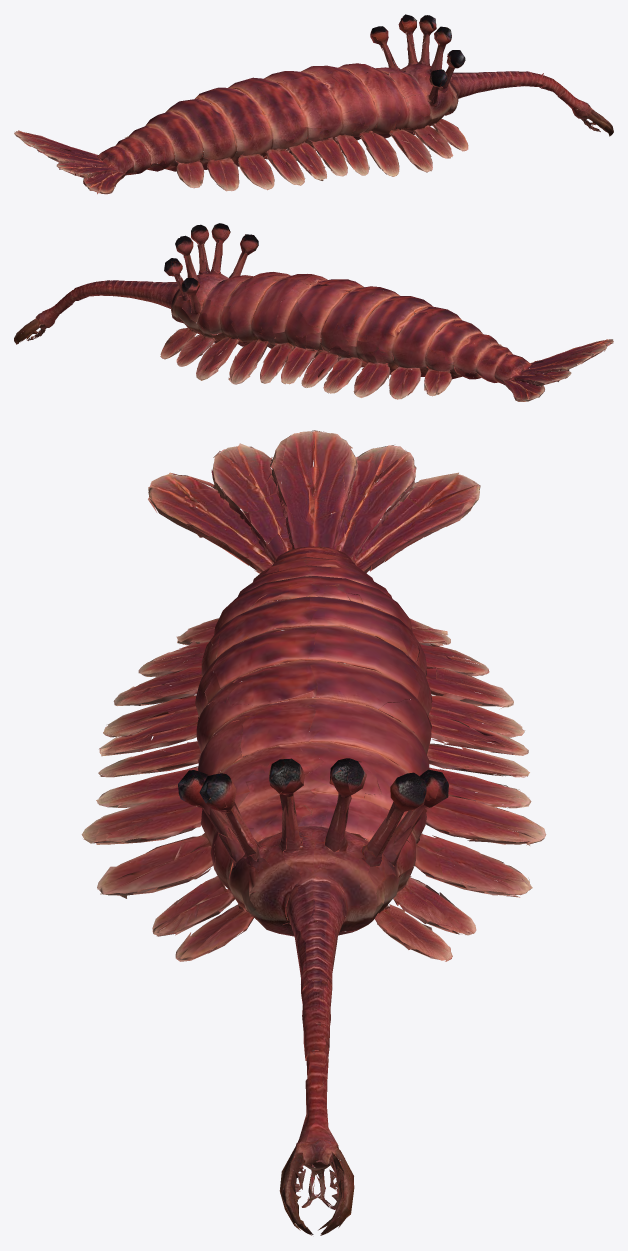
Rendered from opabinia.glb.
3 renders of one model, top to bottom at view 1: azimuth 30°, elevation 25°; view 2: azimuth 150°, elevation 25°; view 3: azimuth 270°, elevation 25°, orthographic. The views are drawn at different scales.
Parts seen in each view (by area): view 1: Mesh_0; view 2: Mesh_0; view 3: Mesh_0.
Boxes of the visible parts, left/top/right/bottom form: Mesh_0: left=14, top=14, right=613, bottom=194; Mesh_0: left=14, top=223, right=613, bottom=401; Mesh_0: left=81, top=430, right=546, bottom=1235.
Bounding box in the file's own units: 1 × 0.2591 × 0.3523.
Materials: 1 (1 with a texture image).
